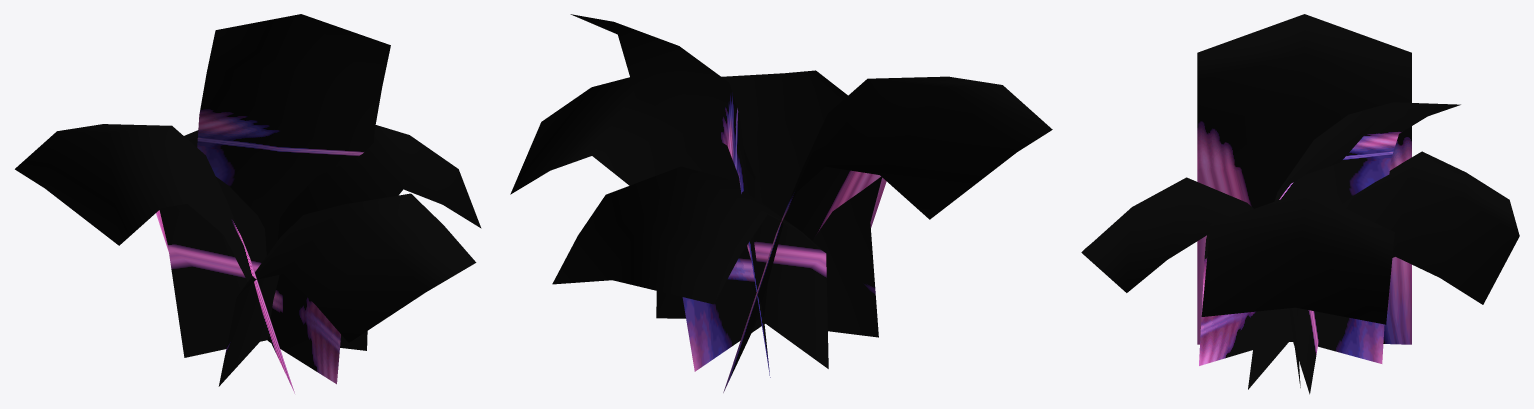
The model's file is actor.obj.
3 views of the same model, side by side, from view 1: azimuth 30°, elevation 25°; view 2: azimuth 150°, elevation 25°; view 3: azimuth 270°, elevation 25° (orthographic). The views are drawn at different scales.
Visible parts, largest first — view 1: actor; view 2: actor; view 3: actor.
Part boxes in pixels (bbox=[...]): actor: bbox=[15, 14, 481, 393]; actor: bbox=[510, 14, 1052, 392]; actor: bbox=[1081, 14, 1519, 394].
Bounding box in the file's own units: 20.59 × 13.77 × 18.64.
1 material, 1 textured.
